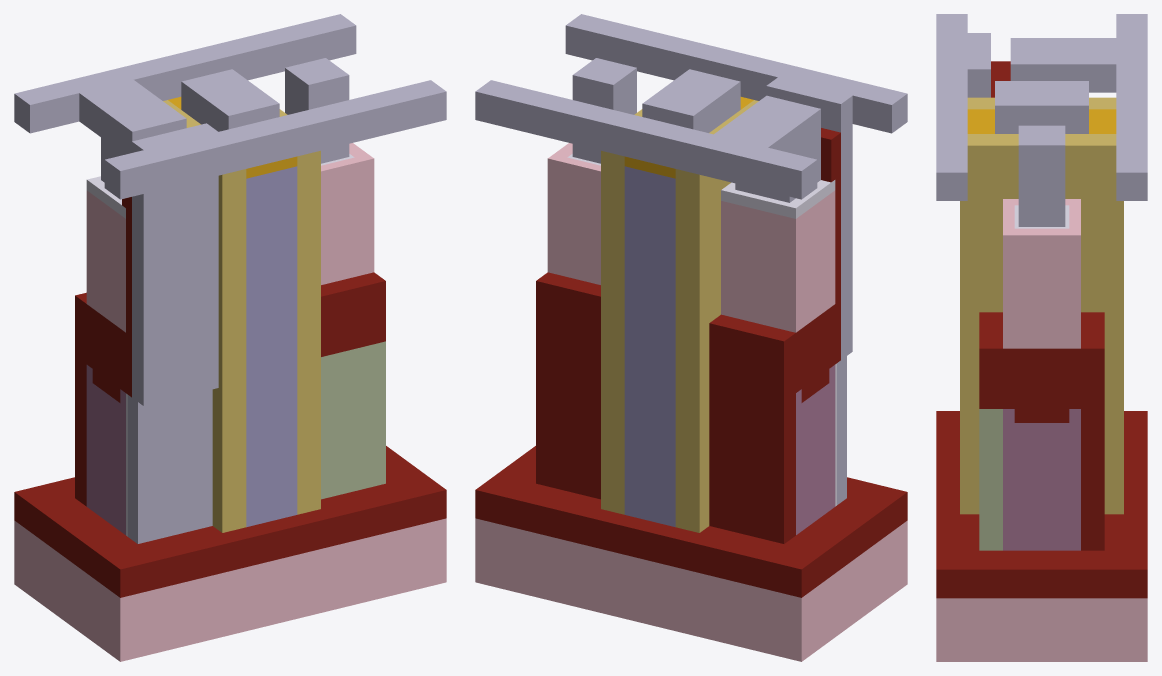
The model's file is inv_cfet.obj.
The picture shows the model from 3 angles, left to right: view 1: azimuth 30°, elevation 25°; view 2: azimuth 150°, elevation 25°; view 3: azimuth 270°, elevation 25°; orthographic projection.
Parts seen in each view (by area): view 1: ni_lo_source, substrate, box, mo, m1_gnd, m1_vdd, spacer_source, tiox_drain, spacer_drain, epi_n_drain, epi_p_source, iso_source (+7 smaller); view 2: substrate, box, iso_source, m1_gnd, mo, spacer_source, iso_drain, m1_vdd, epi_n_source, spacer_drain, epi_n_drain, epi_p_source (+7 smaller); view 3: spacer_drain, box, iso_drain, substrate, m1_gnd, epi_p_drain, epi_n_drain, m1_vdd, m1_in, tiox_drain, ni_drain, m1_out (+4 smaller).
Boxes of the visible parts, x1,y1,x2,y2 form: ni_lo_source: (128,175,218,543); substrate: (14,518,446,661); box: (14,446,446,597); mo: (246,166,297,527); m1_gnd: (14,14,356,154); m1_vdd: (104,80,446,199); spacer_source: (163,100,246,532); tiox_drain: (321,341,385,499); spacer_drain: (279,109,320,514); epi_n_drain: (321,143,374,284); epi_p_source: (86,365,125,534); iso_source: (75,292,125,506); substrate: (475,518,907,661); box: (475,446,907,597); iso_source: (709,304,835,543); m1_gnd: (475,80,820,199); mo: (624,166,675,527); spacer_source: (675,100,758,532); iso_drain: (536,272,600,499); m1_vdd: (565,14,907,133); epi_n_source: (721,190,835,332); spacer_drain: (601,109,642,514); epi_n_drain: (547,143,600,284); epi_p_source: (796,365,835,534); spacer_drain: (960,134,1123,514); box: (936,411,1147,598); iso_drain: (979,312,1104,550); substrate: (936,598,1147,661); m1_gnd: (1010,14,1147,200); epi_p_drain: (1003,409,1080,550); epi_n_drain: (1003,199,1080,348); m1_vdd: (936,14,990,200); m1_in: (995,81,1088,133); tiox_drain: (979,409,1002,550); ni_drain: (1018,173,1065,226); m1_out: (1018,125,1065,173).
Bounding box in the file's own units: 96 × 138 × 54.
